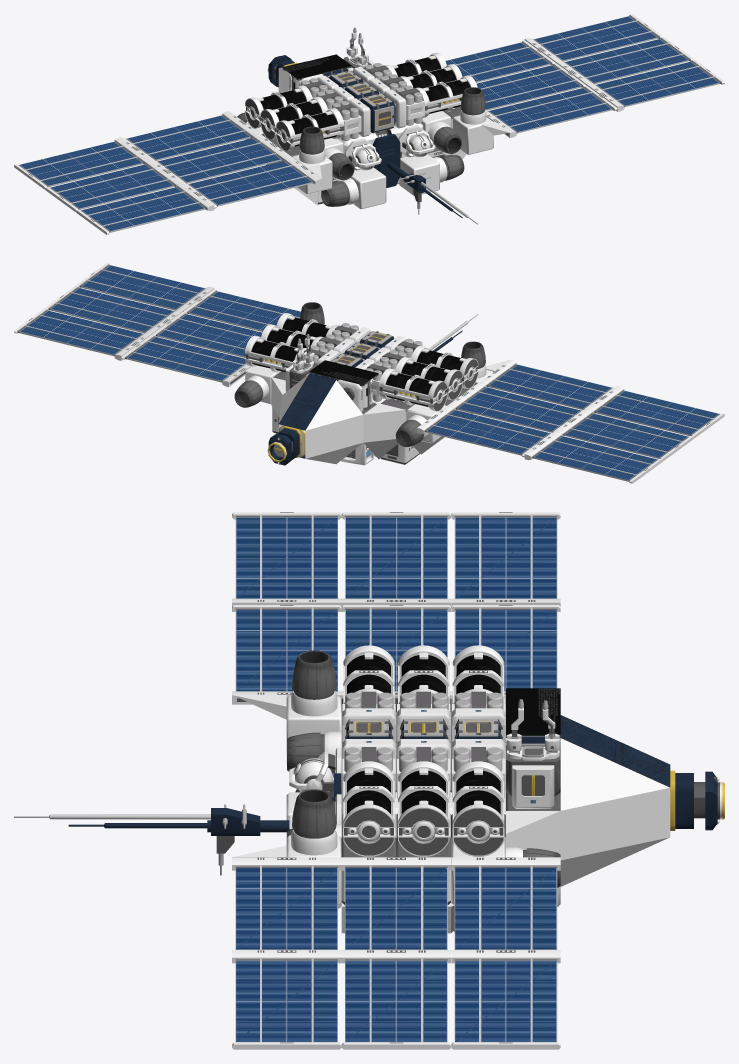
Rendered from svrs_1.glb.
3 renders of one model, top to bottom at view 1: azimuth 30°, elevation 25°; view 2: azimuth 150°, elevation 25°; view 3: azimuth 270°, elevation 25°, orthographic. The views are drawn at different scales.
Parts seen in each view (by area): view 1: Object_19, Object_16, Object_3, Object_4, Object_17, Object_20, Object_28, Object_7, Object_23, Object_27, Object_14, Object_10 (+1 smaller); view 2: Object_19, Object_3, Object_16, Object_4, Object_27, Object_26, Object_24, Object_28, Object_10, Object_23, Object_14, Object_7 (+2 smaller); view 3: Object_19, Object_3, Object_16, Object_27, Object_26, Object_4, Object_17, Object_14, Object_28, Object_7, Object_24, Object_23 (+2 smaller).
Part boxes in pixels (<box>): Object_19: <box>14,14,724,234</box>; Object_16: <box>237,87,493,209</box>; Object_3: <box>245,52,477,151</box>; Object_4: <box>260,57,470,146</box>; Object_17: <box>372,134,477,224</box>; Object_20: <box>344,125,435,170</box>; Object_28: <box>267,55,395,132</box>; Object_7: <box>327,69,395,133</box>; Object_23: <box>283,54,351,78</box>; Object_27: <box>278,67,509,205</box>; Object_14: <box>343,27,374,71</box>; Object_10: <box>261,106,461,204</box>; Object_19: <box>14,263,724,483</box>; Object_3: <box>245,313,478,411</box>; Object_16: <box>234,302,493,447</box>; Object_4: <box>251,317,462,406</box>; Object_27: <box>271,359,509,464</box>; Object_26: <box>271,377,444,458</box>; Object_24: <box>279,373,335,430</box>; Object_28: <box>267,331,394,465</box>; Object_10: <box>272,371,477,464</box>; Object_23: <box>310,360,378,384</box>; Object_14: <box>285,334,317,391</box>; Object_7: <box>321,331,391,378</box>; Object_19: <box>232,512,560,1049</box>; Object_3: <box>341,645,505,856</box>; Object_16: <box>286,650,560,908</box>; Object_27: <box>232,695,669,932</box>; Object_26: <box>341,788,670,933</box>; Object_4: <box>347,655,500,814</box>; Object_17: <box>14,773,341,875</box>; Object_14: <box>506,699,560,808</box>; Object_28: <box>345,719,724,830</box>; Object_7: <box>342,719,560,749</box>; Object_24: <box>560,715,670,787</box>; Object_23: <box>506,688,560,734</box>.
Size of the model in its own units: 57.5 by 10.02 by 32.45.
Materials: 29 (29 with a texture image).
